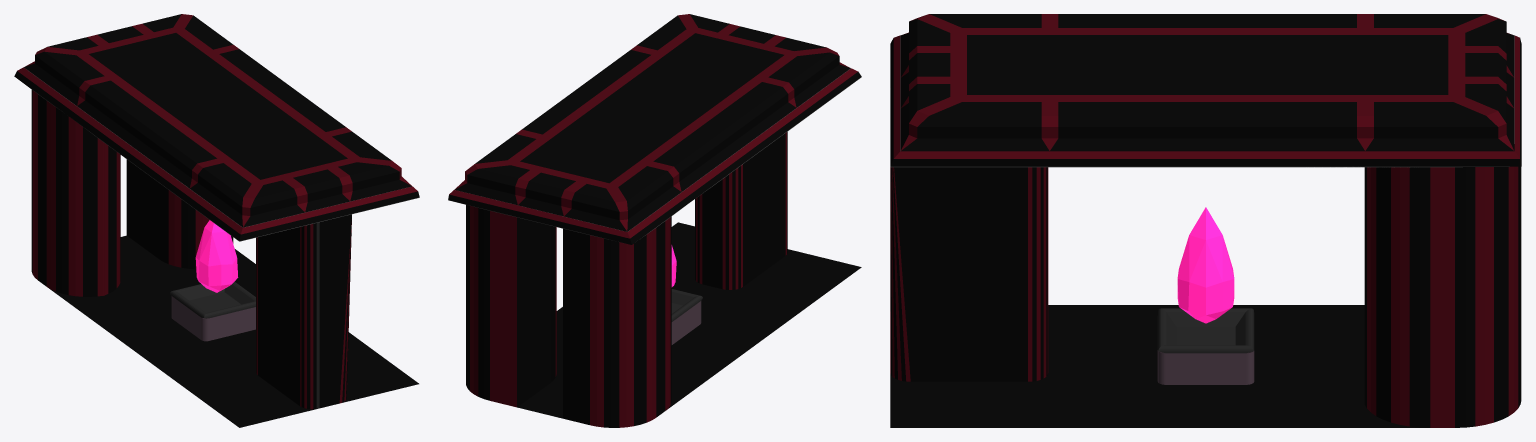
The model's file is spawn.fbx.
3 views of the same model, side by side, from view 1: azimuth 30°, elevation 25°; view 2: azimuth 150°, elevation 25°; view 3: azimuth 270°, elevation 25° (orthographic). The views are drawn at different scales.
Visible parts, largest first — view 1: Plane, Icosphere; view 2: Plane; view 3: Plane, Icosphere.
Part boxes in pixels (x1,y1,x2,y2): Plane: (14,14,419,427); Icosphere: (195,220,238,292); Plane: (448,14,861,427); Plane: (890,14,1521,427); Icosphere: (1177,207,1234,323).
Size of the model in its own units: 604 by 693 by 1308.
